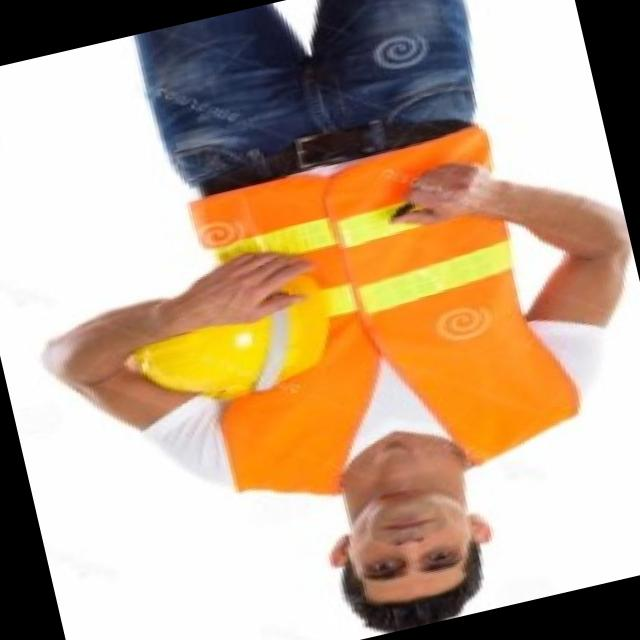not-gloved: (150, 228, 316, 348), (381, 142, 532, 245)
